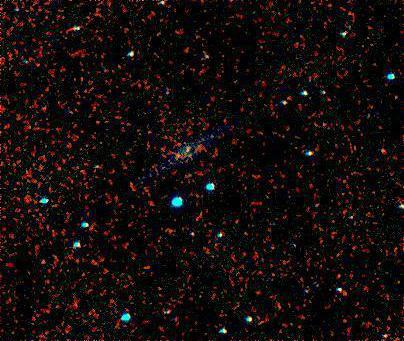star: (162, 141, 192, 171)
